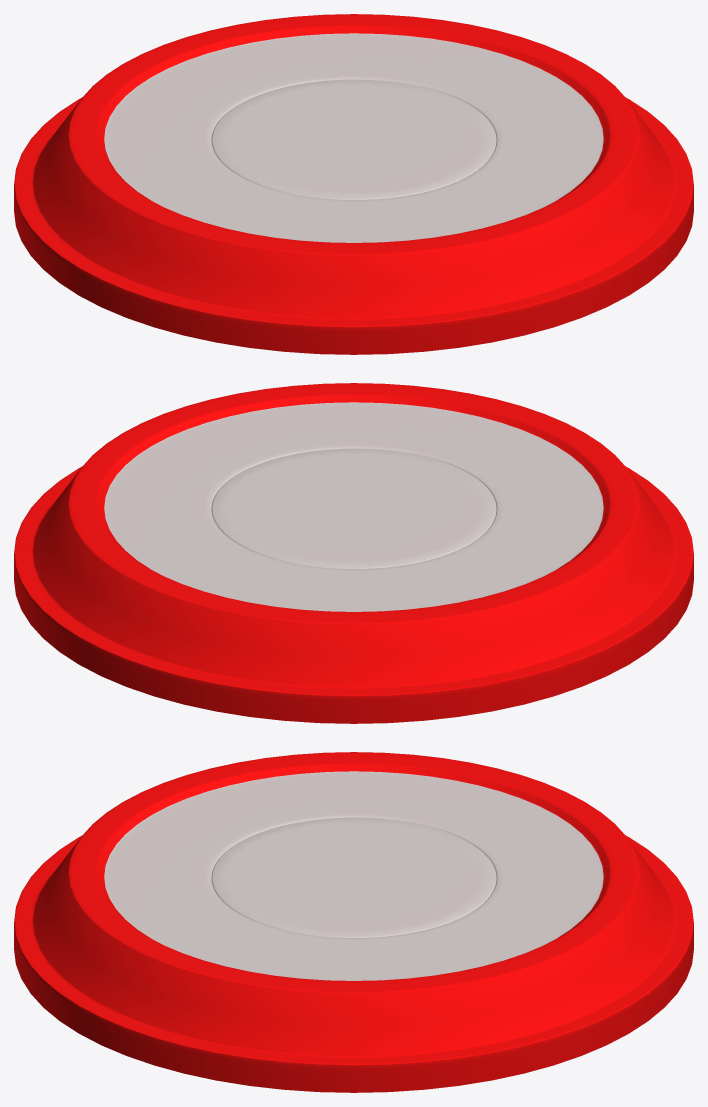
Rendered from Pd_ground.FBX.
The picture shows the model from 3 angles, top to bottom: view 1: azimuth 30°, elevation 25°; view 2: azimuth 150°, elevation 25°; view 3: azimuth 270°, elevation 25°; orthographic projection.
Visible parts, largest first — view 1: ground; view 2: ground; view 3: ground.
Boxes of the visible parts, box(x1,y1,x2,y2) form: ground: box(14, 14, 693, 354); ground: box(14, 383, 693, 723); ground: box(14, 752, 693, 1092).
Bounding box in the file's own units: 522 × 65.15 × 522.
